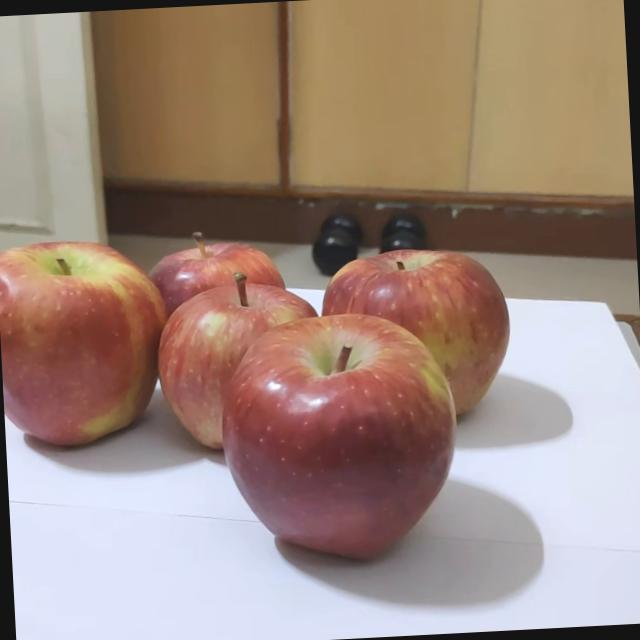apple: (204, 318, 448, 577), (354, 249, 559, 446), (26, 241, 222, 444), (185, 274, 360, 448), (202, 237, 350, 381)
